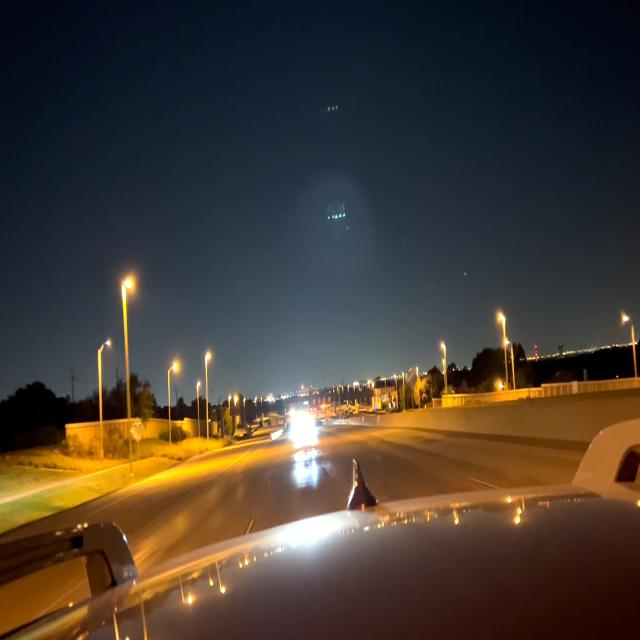back-of-sign: (131, 416, 145, 442)
